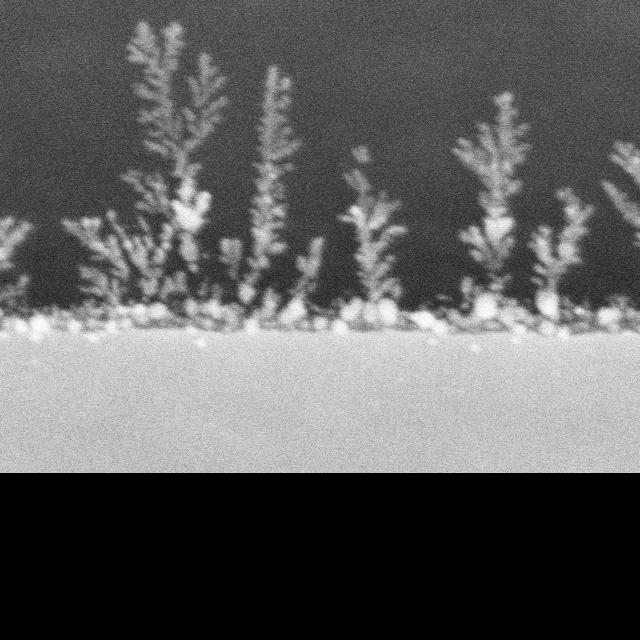Dendrite: (0, 22, 344, 340), (453, 92, 640, 334), (326, 147, 482, 334), (0, 215, 32, 310)
